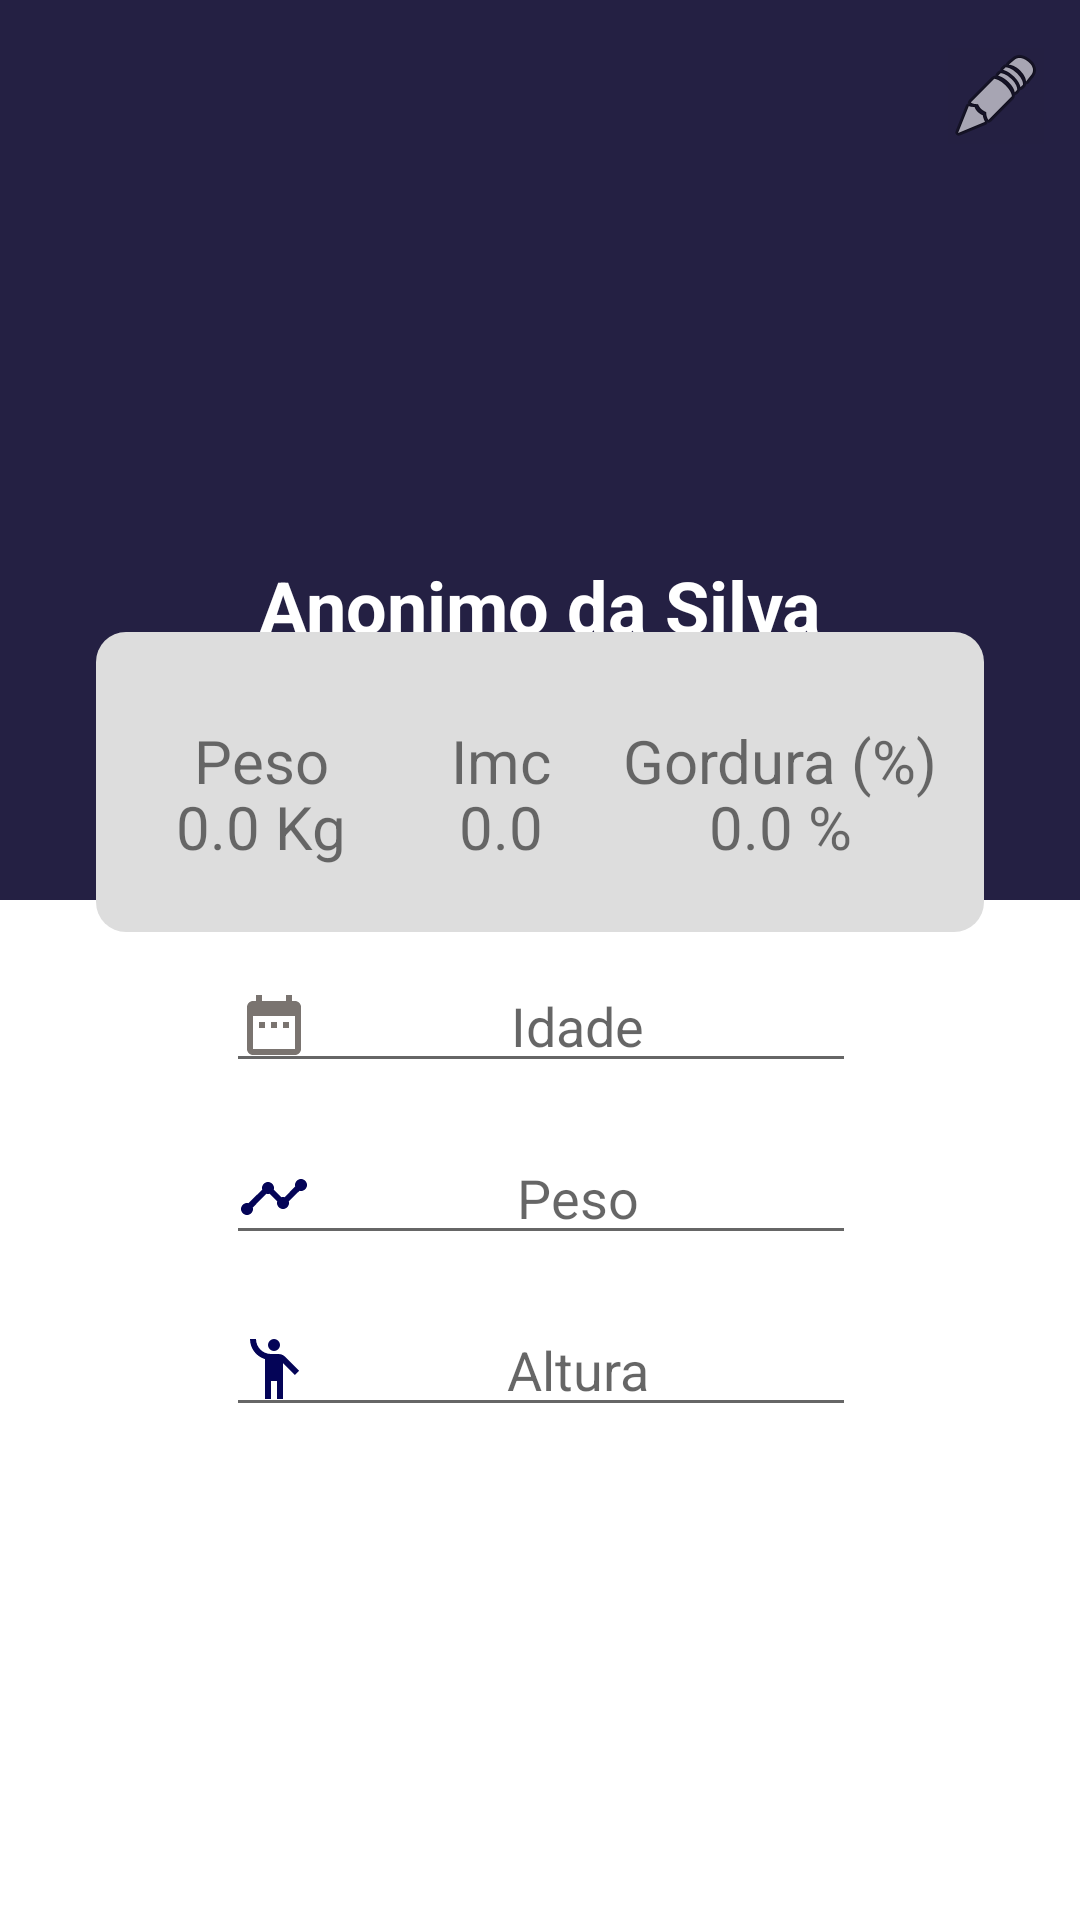

Locate icon controls on the screen. Image size 1080w x 1920h, boxes as (x1, y1, x2, y2).
edit: (956, 55, 1036, 135)
